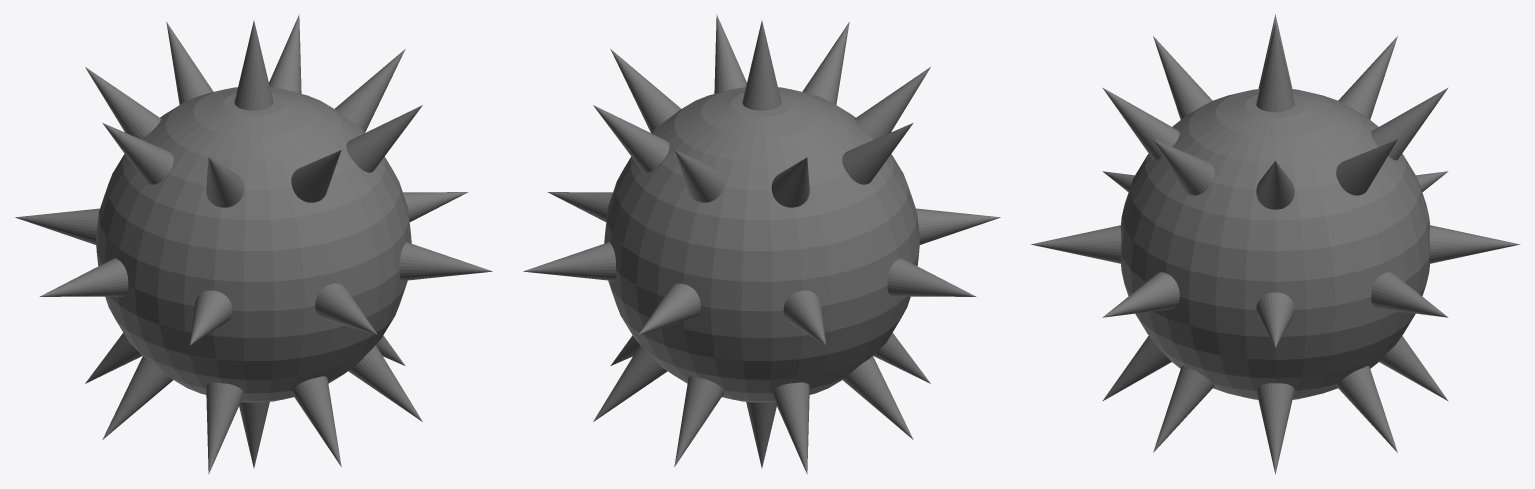
File: spiked_ball.fbx
3 views of the same model, side by side, from view 1: azimuth 30°, elevation 25°; view 2: azimuth 150°, elevation 25°; view 3: azimuth 270°, elevation 25° (orthographic).
Parts seen in each view (by area): view 1: Sphere; view 2: Sphere; view 3: Sphere.
Boxes of the visible parts, box(x1,y1,x2,y2) form: Sphere: box(15, 14, 492, 474); Sphere: box(523, 14, 1000, 474); Sphere: box(1030, 14, 1520, 474).
Bounding box in the file's own units: 377 × 377 × 377.
